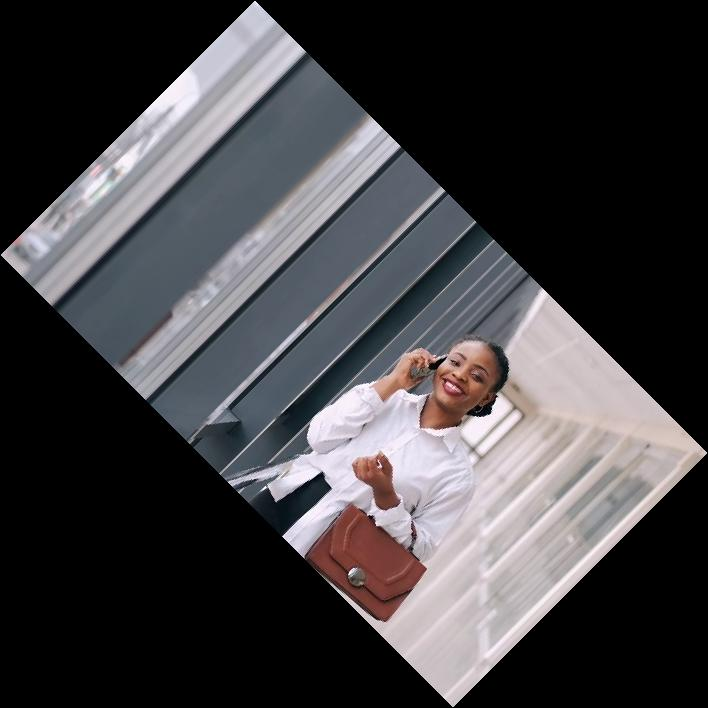phone: (422, 351, 450, 372)
